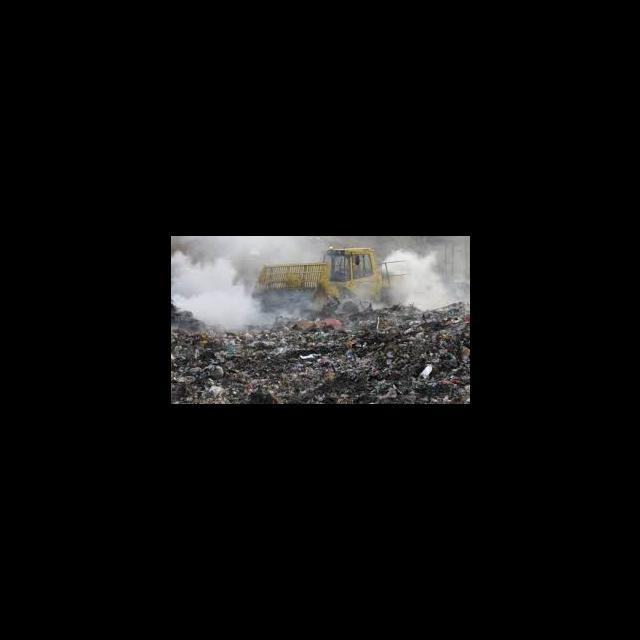Smoke: (172, 239, 276, 328), (382, 247, 457, 312)
